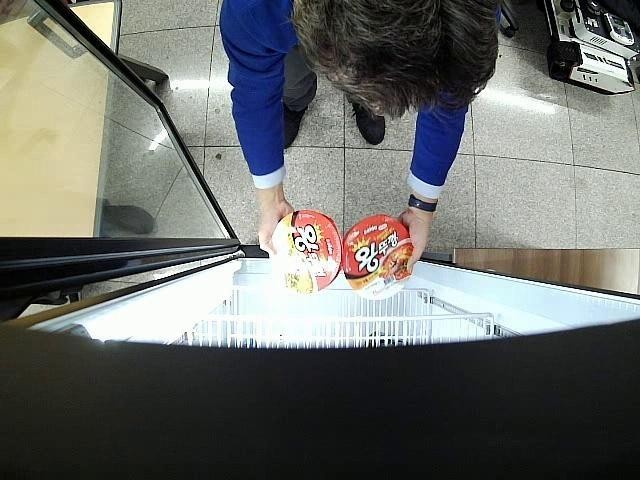10_wangTtukkeong: (268, 210, 342, 296), (342, 215, 413, 300)
